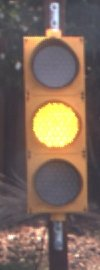Yellow: (19, 35, 91, 226)
